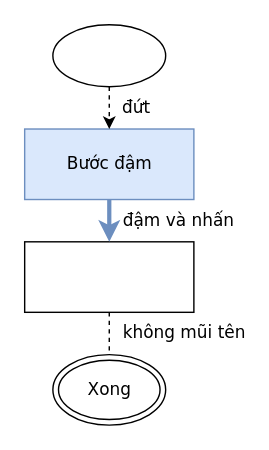
Some shapes in this 269 by 450 pixel diagram are drawn without their labels. The shapes that lost their labels are listed below. From the top down, each one's centre as x and y in pixels, then its label:
At pixel 108 55: "Vào".
At pixel 108 276: "Bước thường".
